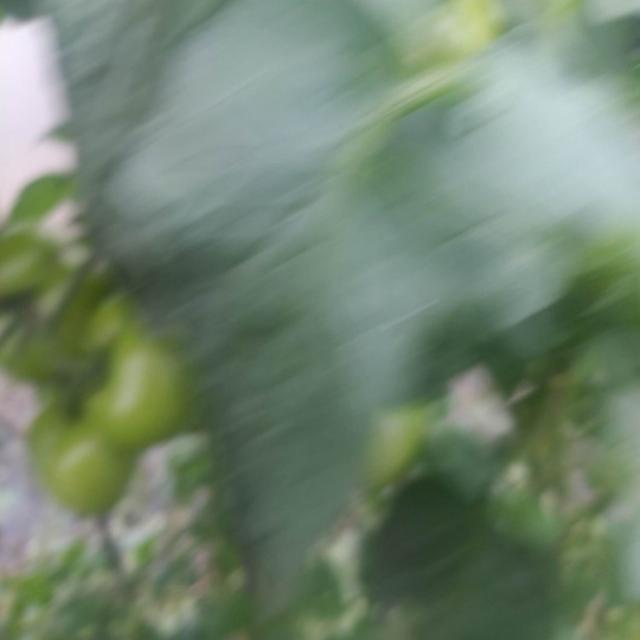tomato: (82, 326, 196, 451), (30, 407, 114, 522), (372, 393, 430, 491)
